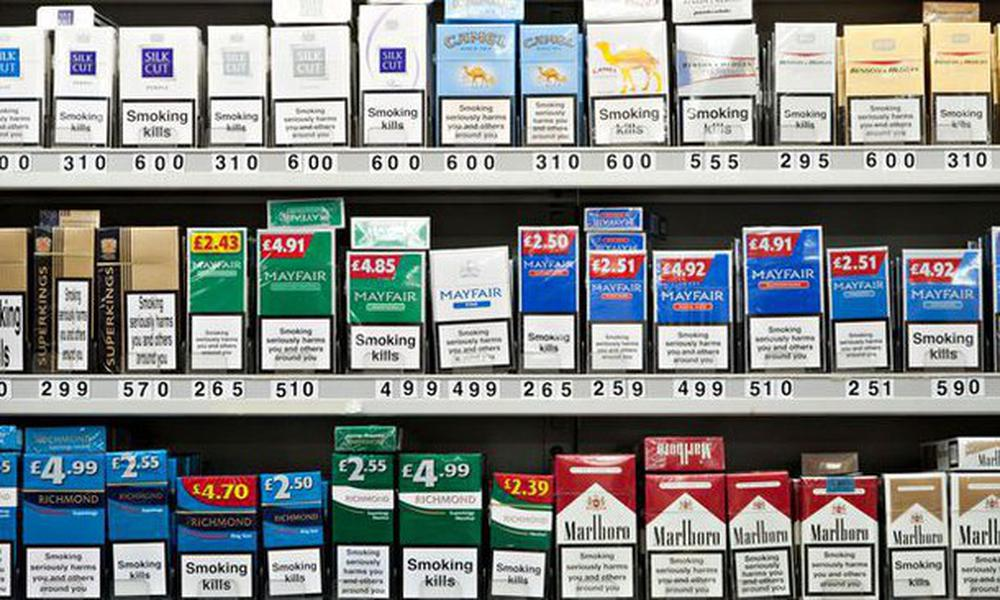marlboro_red: (556, 457, 635, 600), (646, 474, 725, 600), (804, 479, 877, 597), (729, 476, 789, 597)
